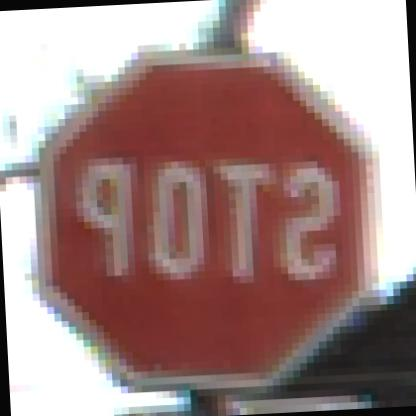stop: (4, 32, 410, 406)
